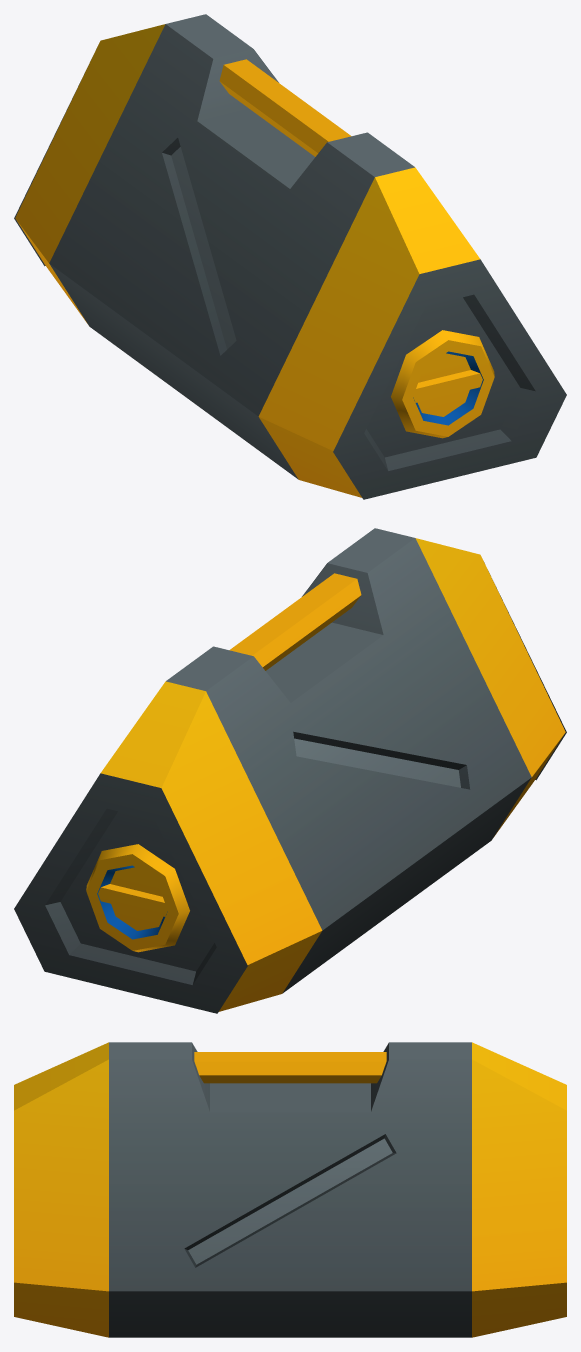
Rendered from Gas_can_016.fbx.
3 views of the same model, one above another, from view 1: azimuth 30°, elevation 25°; view 2: azimuth 150°, elevation 25°; view 3: azimuth 270°, elevation 25° (orthographic). The views are drawn at different scales.
Visible parts, largest first — view 1: Gas_can_016; view 2: Gas_can_016; view 3: Gas_can_016.
Boxes of the visible parts, x1,y1,x2,y2 form: Gas_can_016: (14, 14, 566, 499); Gas_can_016: (14, 528, 566, 1013); Gas_can_016: (14, 1042, 566, 1337).
Bounding box in the file's own units: 33.99 × 68.73 × 33.77.
